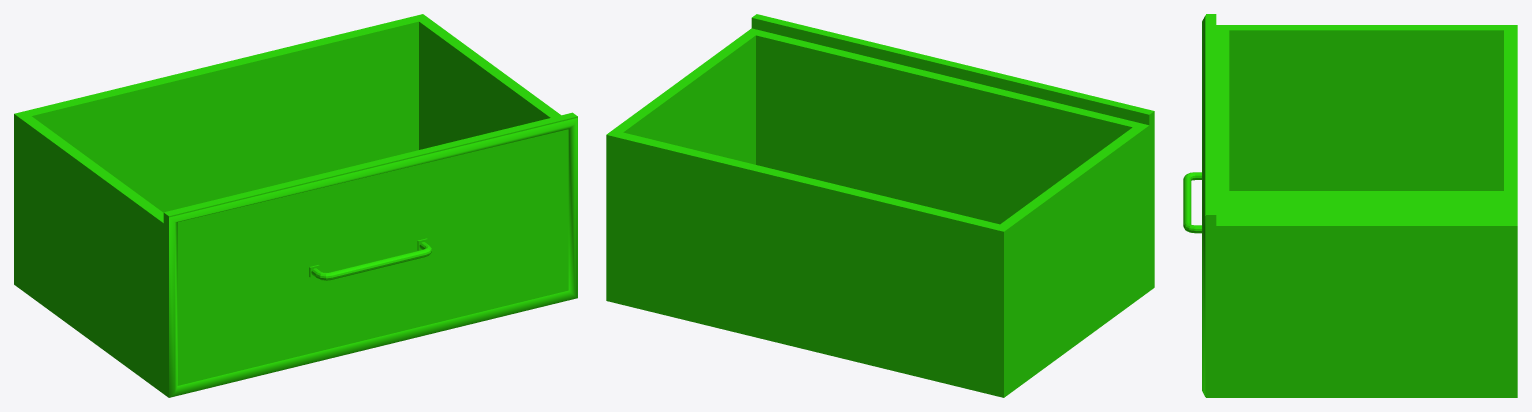
Rendered from Cupboard_02_Drawer_01.fbx.
3 renders of one model, left to right at view 1: azimuth 30°, elevation 25°; view 2: azimuth 150°, elevation 25°; view 3: azimuth 270°, elevation 25°, orthographic. The views are drawn at different scales.
Visible parts, largest first — view 1: Cupboard_02_Drawer_01; view 2: Cupboard_02_Drawer_01; view 3: Cupboard_02_Drawer_01.
Part boxes in pixels (x1,y1,x2,y2): Cupboard_02_Drawer_01: (14, 14, 577, 397); Cupboard_02_Drawer_01: (606, 14, 1154, 397); Cupboard_02_Drawer_01: (1183, 14, 1517, 397).
Size of the model in its own units: 59.87 by 25.42 by 42.09.
